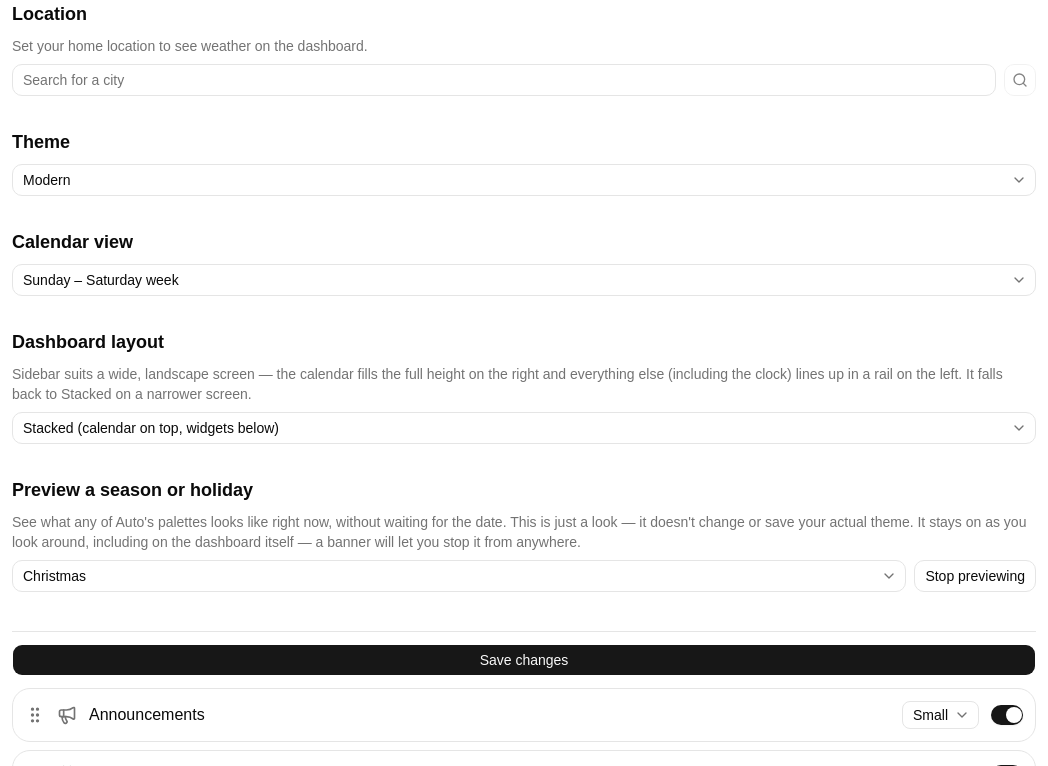
Test case: DashboardSettingsPage › clears the preview when "Stop previewing" is clicked
This screenshot has width=1048, height=766.
Click the button "Stop previewing" at (975, 576), box [914,560,1036,592]
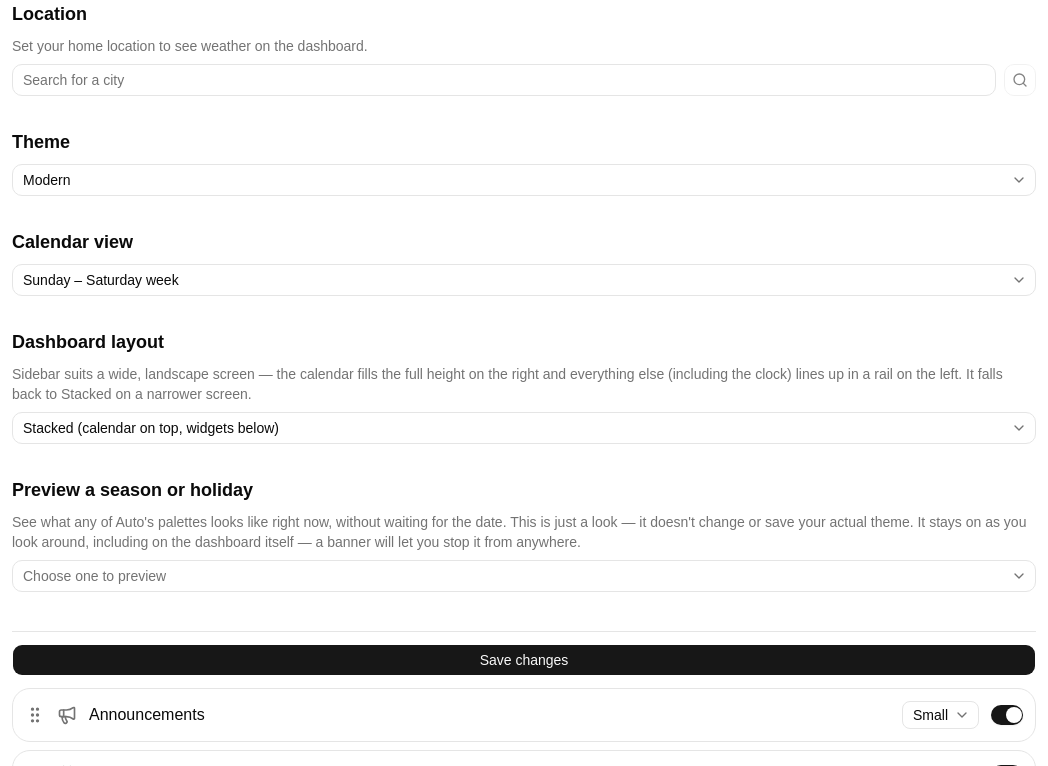
Expected: the button "Stop previewing" is gone
